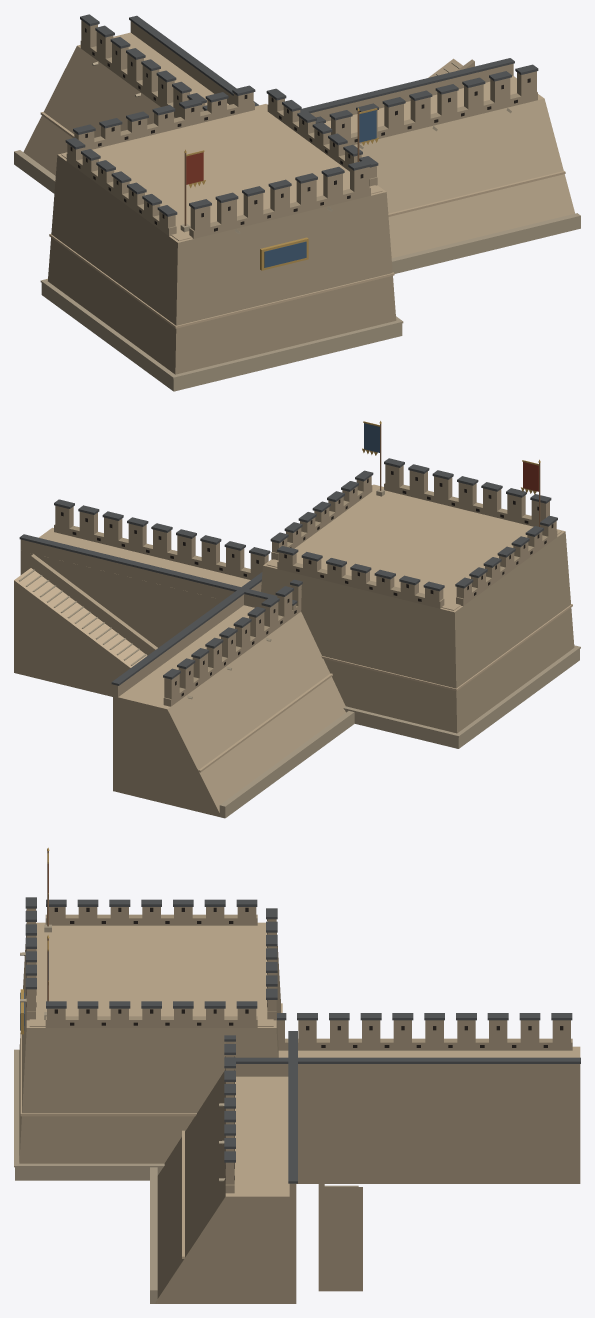
3 views of the same model, one above another, from view 1: azimuth 30°, elevation 25°; view 2: azimuth 150°, elevation 25°; view 3: azimuth 270°, elevation 25° (orthographic). The views are drawn at different scales.
Parts seen in each view (by area): view 1: X03; view 2: X03; view 3: X03.
Boxes of the visible parts, x1=… form: X03: x1=14, y1=14, x2=580, y2=391; X03: x1=14, y1=421, x2=580, y2=818; X03: x1=14, y1=847, x2=580, y2=1303.
Size of the model in its own units: 38.36 by 17.31 by 38.36.
